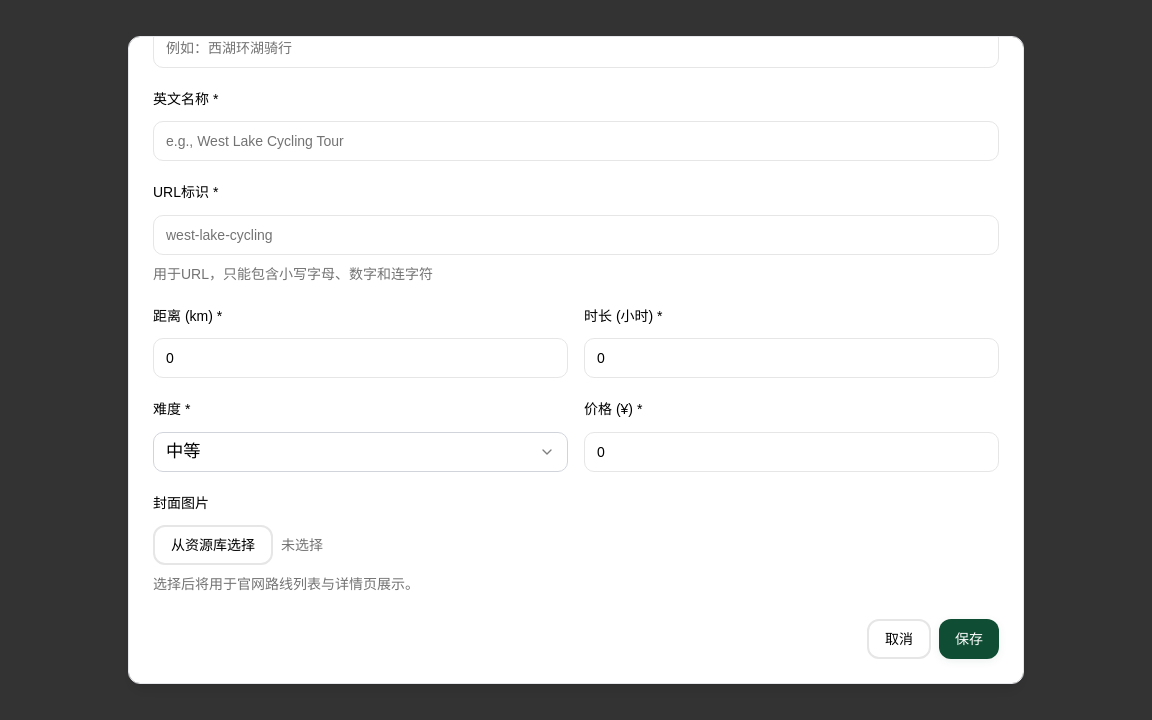
Test: RouteEditor - Form Validation Tests (Requirements 8.2) › Required Field Validation › should show validation error when Chinese name is empty
(page scrolled)
// Find and click submit button
Click the button "保存".
click(969, 639)  # box [939,619,999,659]
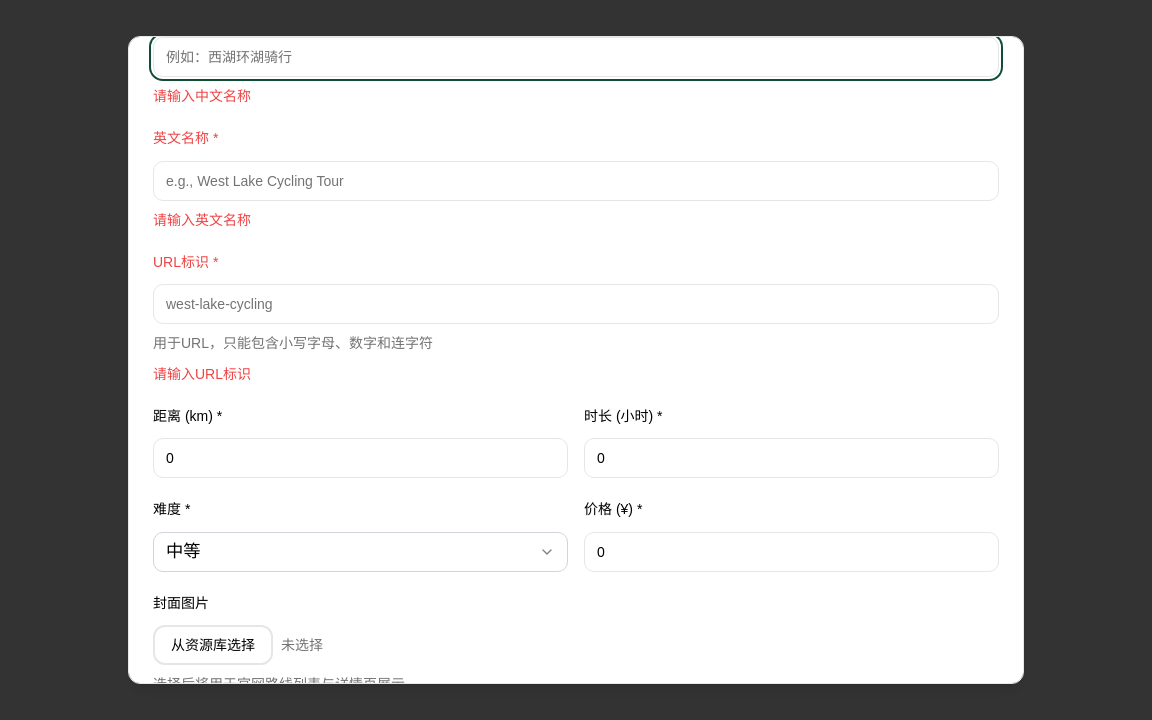
Result: the text "请输入中文名称" is shown at [153,88,251,104]
